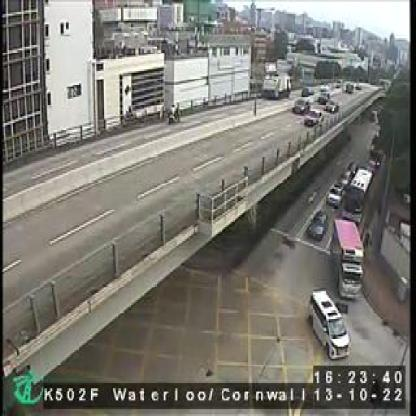Car: (307, 285, 351, 360), (307, 209, 327, 240), (326, 179, 346, 208), (304, 109, 325, 129), (292, 99, 308, 114)
Truck: (332, 219, 362, 302), (341, 166, 371, 221)
